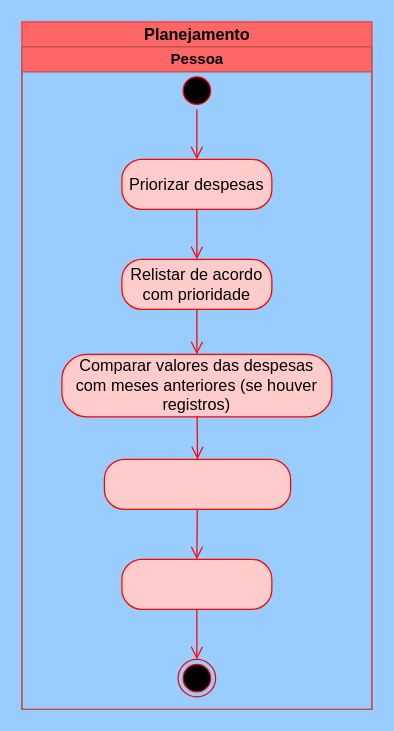
Some shapes in this 394 by 731 pixel diagram are drawn without their labels. The shapes that lost their labels are listed below. From the top down, each one's centre as x and y in pixels, then its label:
pixel 197 483: Calcular percentuais de redução das despesas
pixel 196 583: Pagar de acordo com prioridade
